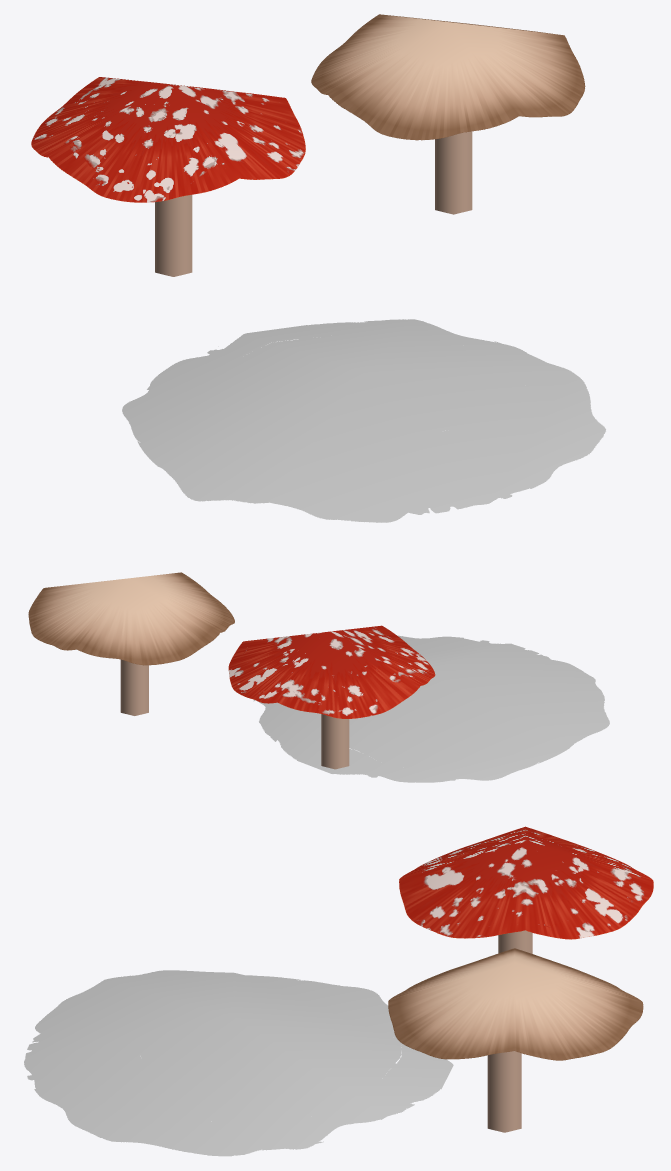
Rendered from Mushrooms.fbx.
3 views of the same model, one above another, from view 1: azimuth 30°, elevation 25°; view 2: azimuth 150°, elevation 25°; view 3: azimuth 270°, elevation 25° (orthographic). The views are drawn at different scales.
Visible parts, largest first — view 1: Mushroom_03, Mushroom_02, Mushroom_01; view 2: Mushroom_03, Mushroom_02, Mushroom_01; view 3: Mushroom_03, Mushroom_01, Mushroom_02.
Part boxes in pixels (x1,y1,x2,y2): Mushroom_03: (122,319,605,522); Mushroom_02: (31,77,305,276); Mushroom_01: (311,14,585,214); Mushroom_03: (253,635,609,782); Mushroom_02: (228,625,435,769); Mushroom_01: (28,572,234,715); Mushroom_03: (24,970,453,1156); Mushroom_01: (388,948,643,1132); Mushroom_02: (399,826,653,953).
Bounding box in the file's own units: 0.5264 × 0.1974 × 0.5537.
